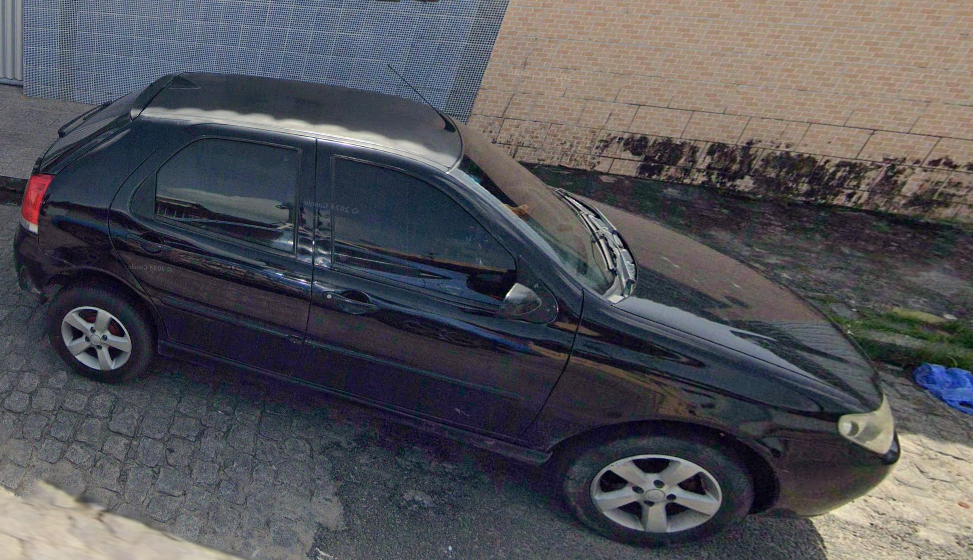car: (21, 65, 900, 546)
